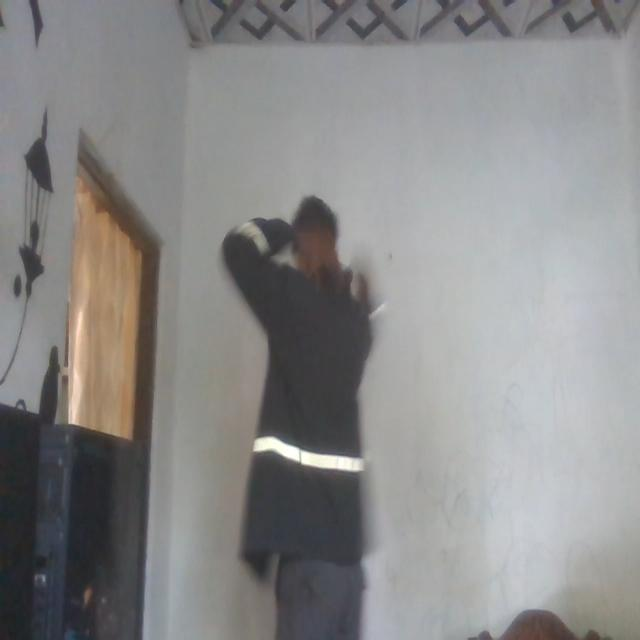Jacket_Wearer: (229, 214, 373, 550)
Person: (221, 180, 377, 640)
